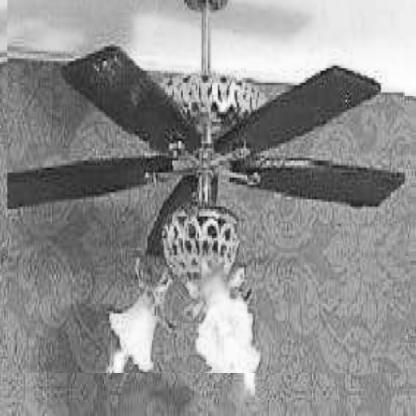ceiling-fan: (7, 0, 406, 374)
